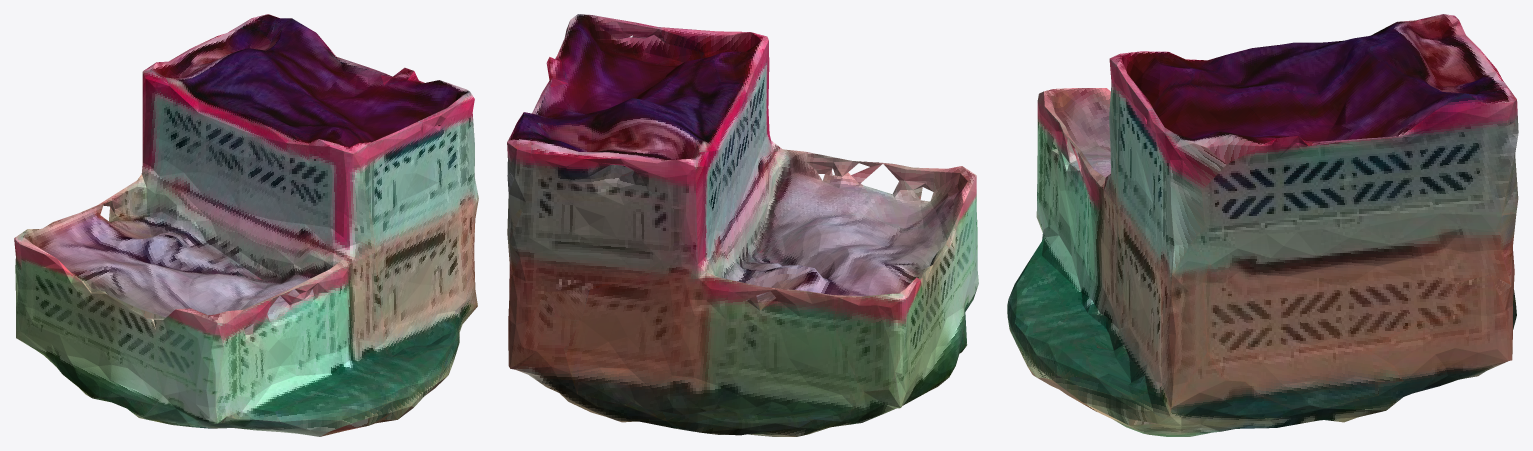
The model's file is 1024-pullover.glb.
The picture shows the model from 3 angles, left to right: view 1: azimuth 30°, elevation 25°; view 2: azimuth 150°, elevation 25°; view 3: azimuth 270°, elevation 25°; orthographic projection. The views are drawn at different scales.
Parts seen in each view (by area): view 1: Mesh_0; view 2: Mesh_0; view 3: Mesh_0.
Part boxes in pixels (<box>): Mesh_0: <box>14,14,478,436</box>; Mesh_0: <box>507,14,978,436</box>; Mesh_0: <box>1007,14,1518,436</box>.
Bounding box in the file's own units: 0.3971 × 0.2846 × 0.3686.
Materials: 1 (1 with a texture image).
